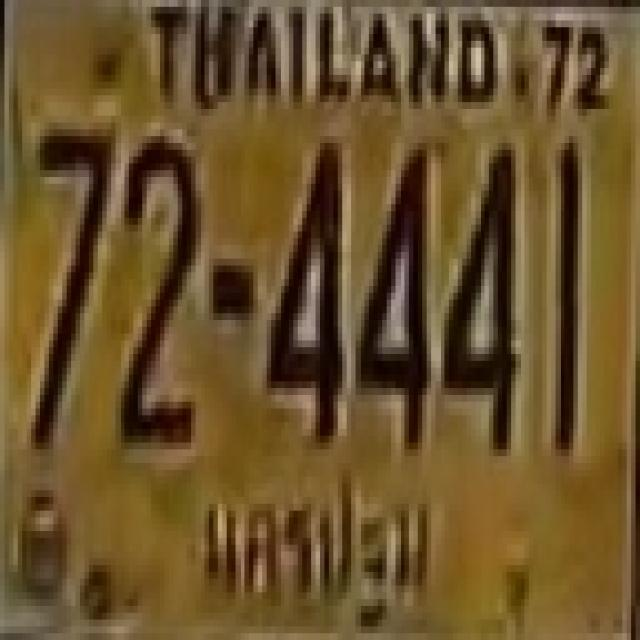1: (551, 140, 578, 446)
2: (118, 132, 198, 438)
4: (353, 136, 429, 443), (264, 136, 340, 436), (440, 136, 511, 450)
7: (33, 126, 109, 439)
NPT: (192, 454, 429, 620)
